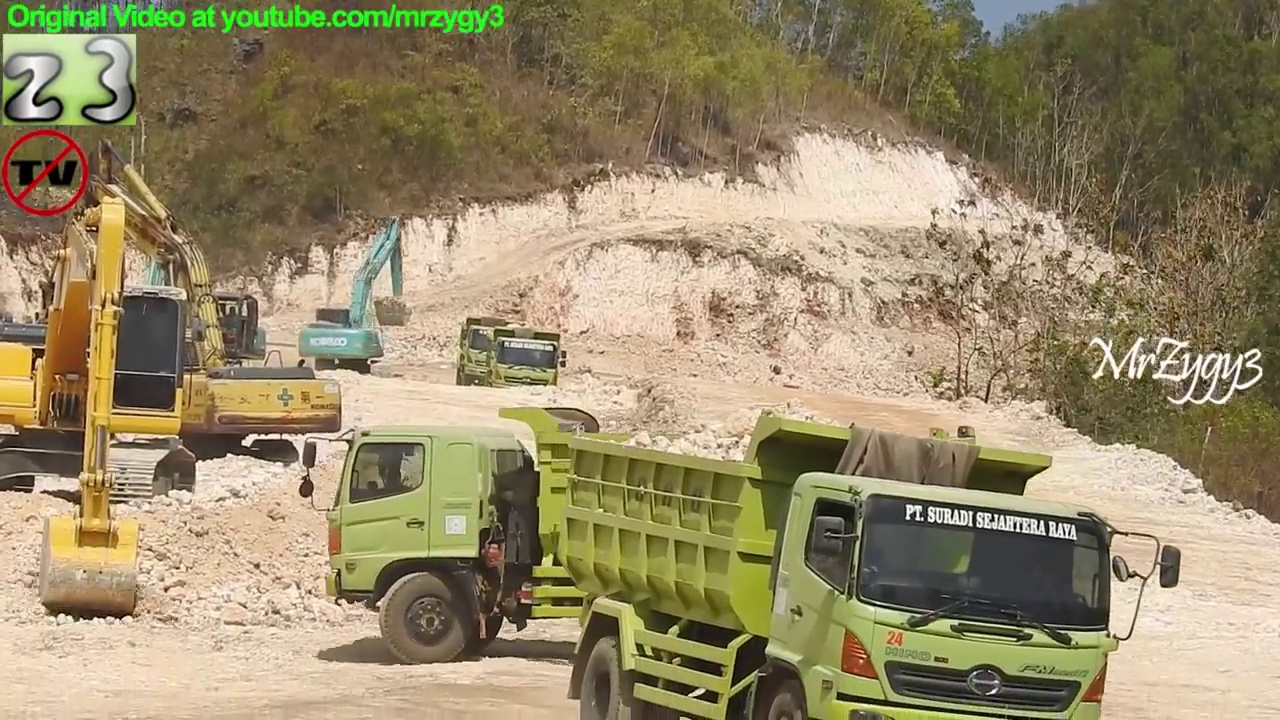excavator: (40, 136, 343, 474), (1, 181, 202, 626), (115, 199, 289, 405), (300, 209, 413, 378)
truck: (554, 405, 1188, 720), (298, 402, 979, 668), (486, 320, 571, 400), (453, 314, 530, 390)
